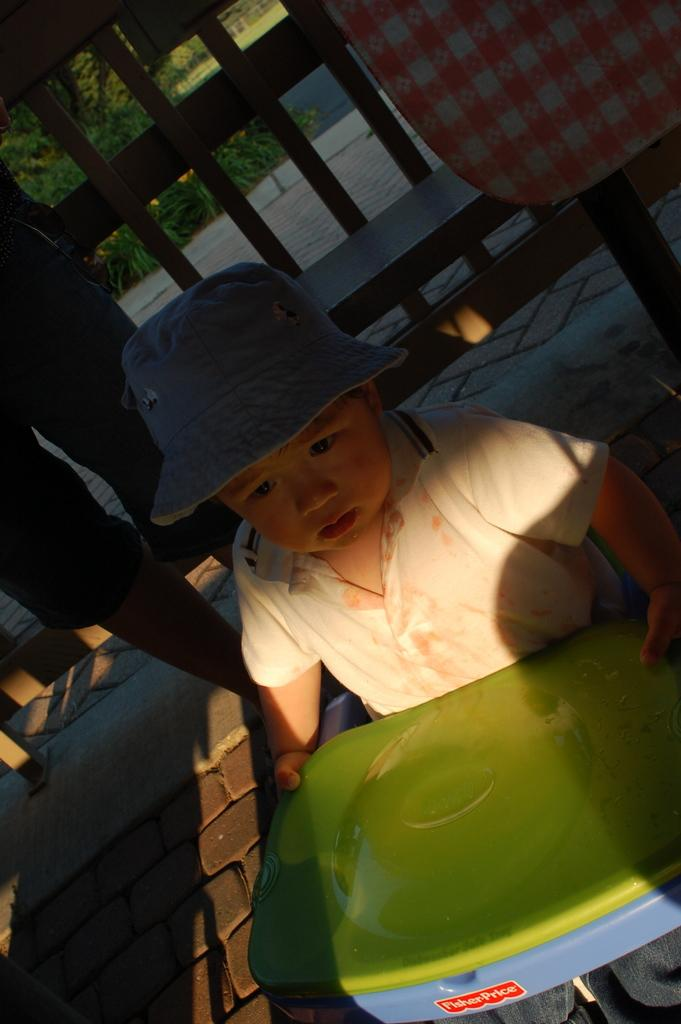Hat: (114, 262, 403, 530)
